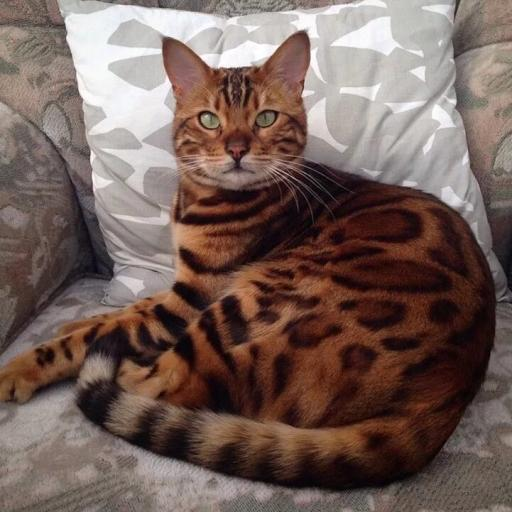cats: (0, 32, 496, 487)
